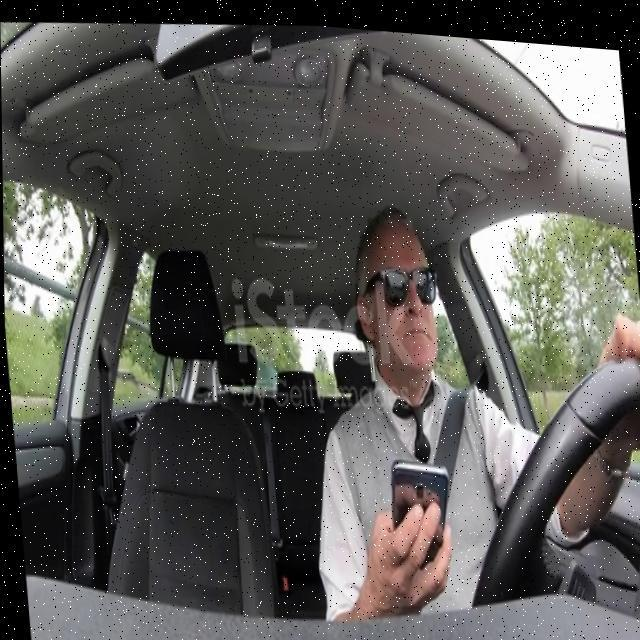PhoneCall: (385, 445, 455, 577)
